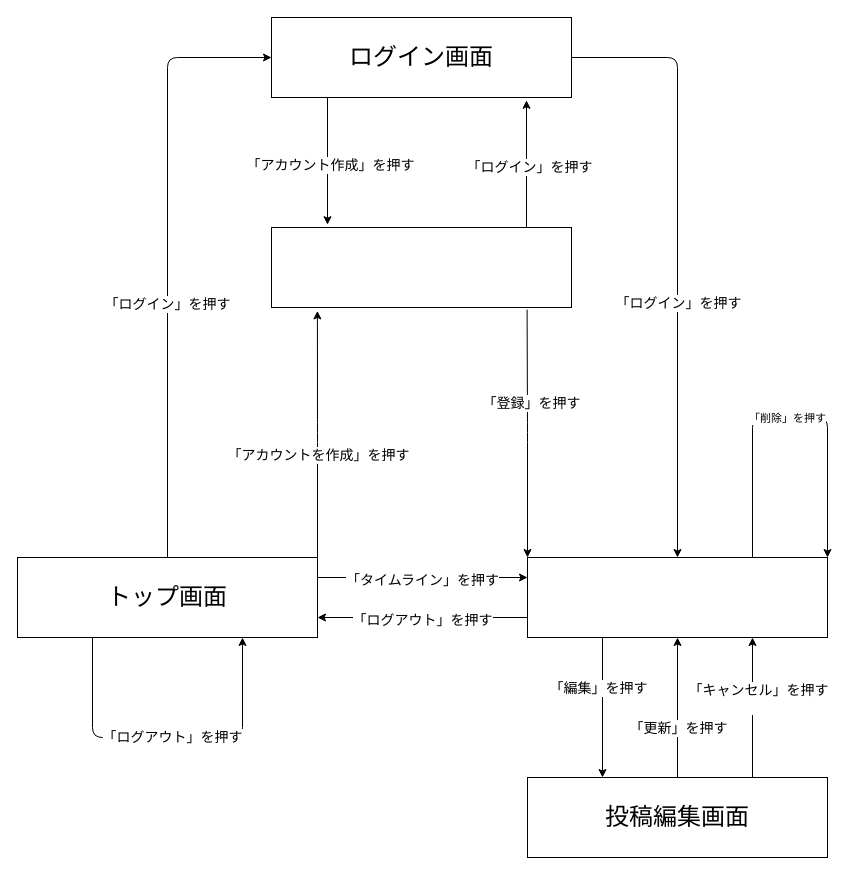
Some shapes in this 853 by 875 pixel diagram are drawn without their labels. The centre of each missing label's shape, as x and y in pixels:
ユーザー登録画面: (421,267)
登録一覧画面: (677,597)
